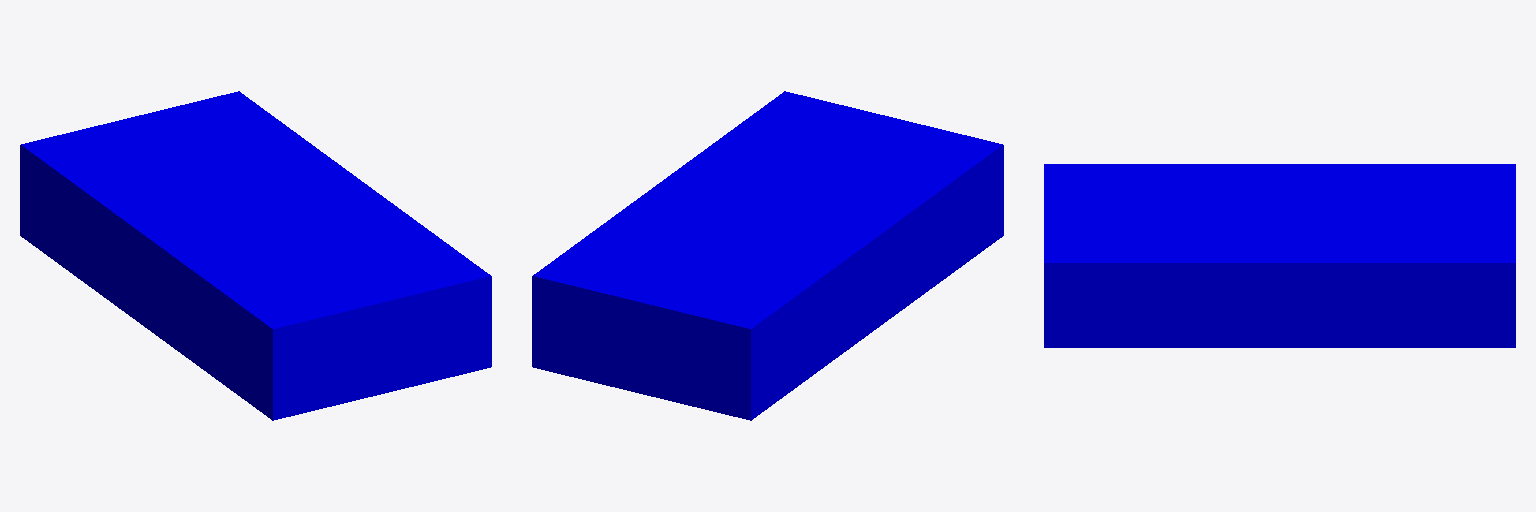
The robot description file, URDF, robot "platform":
<robot name="platform">
    <link name="base">
        <inertial>
            <mass value="1.0"/>
        </inertial>
        <visual>
            <geometry>
                <box size="0.5 1.0 0.2"/>
            </geometry>
            <material name="blue">
                <color rgba="0 0 1 1"/>
            </material>
            <origin xyz="0.25 0 -0.1" rpy="0 0 0"/>
        </visual>
        <collision>
            <geometry>
                <box size="0.5 1.0 0.2"/>
            </geometry>
            <origin xyz="0.25 0 -0.1" rpy="0 0 0"/>
        </collision>
    </link>
</robot>

--- What the picture shows (computed from the rendered views, not written in the file) ---
3 views of the same robot in one strip: view 1: azimuth 30°, elevation 25°; view 2: azimuth 150°, elevation 25°; view 3: azimuth 270°, elevation 25° (orthographic).
Robot: platform — 1 links, 0 joints (none); root link base; default pose: every joint at zero.
Visible links, largest first — view 1: base; view 2: base; view 3: base.
Boxes of the visible links, bbox=[...] form: base: bbox=[20, 91, 491, 420]; base: bbox=[532, 91, 1003, 420]; base: bbox=[1044, 164, 1515, 347].
Bounding box of the posed robot: 0.5 × 1 × 0.2 m (x, y, z).
Geometry: primitives only (box / cylinder / sphere), no mesh files.